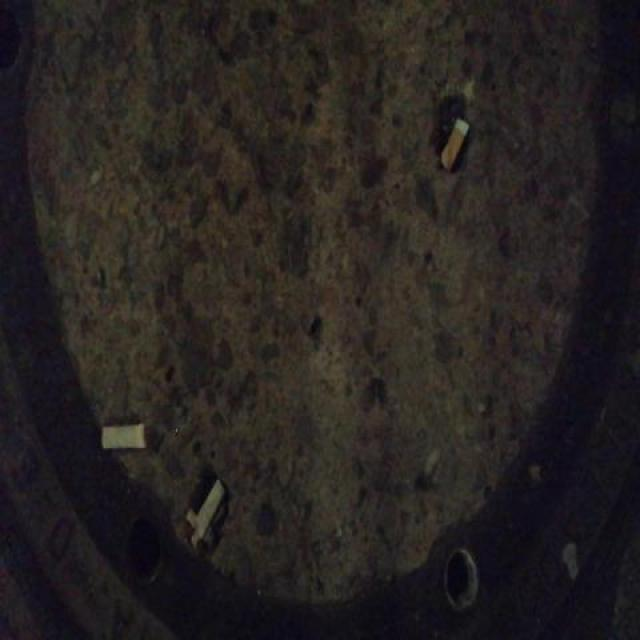non-organic waste: (185, 476, 232, 548), (436, 111, 472, 178), (100, 421, 151, 456)
